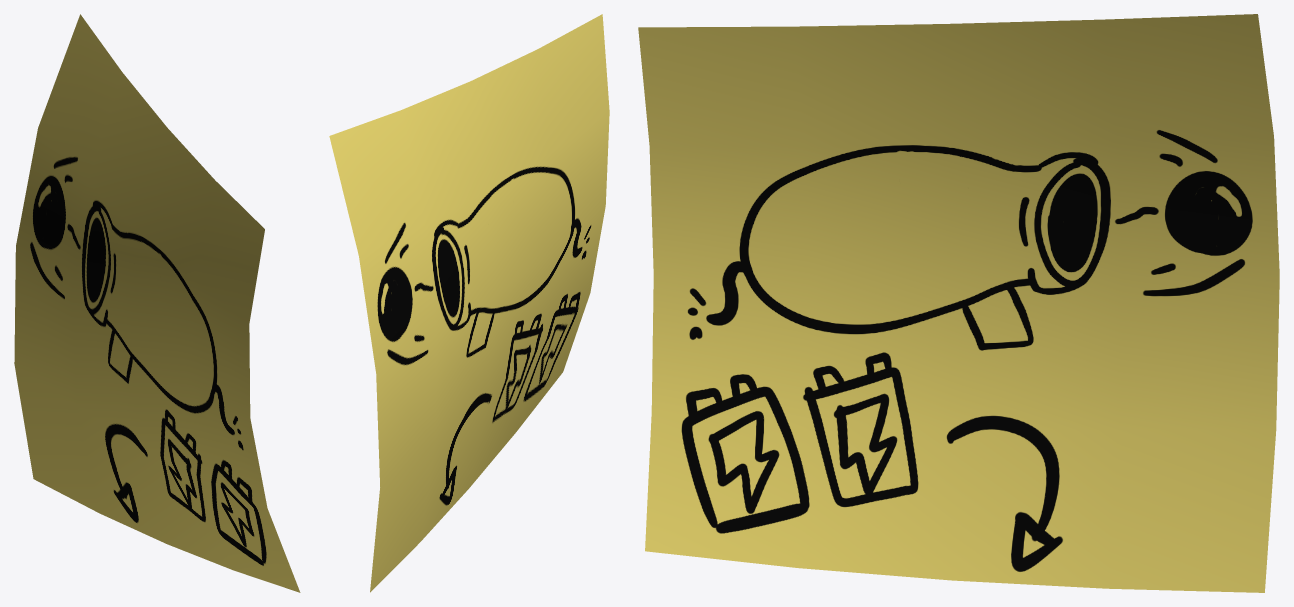
File: PostItColourCannonRight.fbx
3 renders of one model, left to right at view 1: azimuth 30°, elevation 25°; view 2: azimuth 150°, elevation 25°; view 3: azimuth 270°, elevation 25°, orthographic. The views are drawn at different scales.
Visible parts, largest first — view 1: Cube; view 2: Cube; view 3: Cube.
Boxes of the visible parts, x1=… form: Cube: x1=14, y1=14, x2=300, y2=592; Cube: x1=329, y1=14, x2=609, y2=592; Cube: x1=638, y1=14, x2=1279, y2=592.
Size of the model in its own units: 147 by 1070 by 1024.
